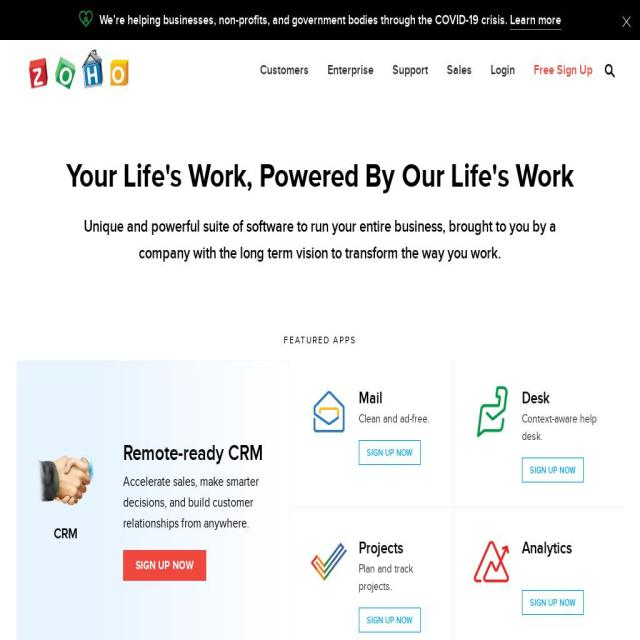button: (17, 389, 290, 631), (308, 535, 435, 633), (472, 385, 598, 483), (308, 385, 429, 465), (79, 10, 561, 29), (472, 535, 584, 615), (524, 50, 602, 88), (250, 50, 318, 88), (318, 50, 384, 88), (383, 50, 438, 88), (437, 50, 482, 88), (481, 50, 525, 88)
heading: (16, 156, 624, 196), (16, 332, 624, 348), (122, 439, 277, 467)
image: (28, 49, 129, 91), (308, 385, 349, 438), (308, 535, 349, 588), (472, 385, 512, 438), (472, 535, 512, 588), (603, 63, 619, 82)
label: (358, 560, 435, 595), (522, 410, 598, 445), (358, 410, 429, 428)
link: (122, 471, 277, 533), (358, 440, 421, 465), (522, 590, 584, 615), (358, 608, 421, 632), (522, 458, 584, 482)
text: (69, 212, 570, 266), (99, 10, 510, 29), (35, 439, 96, 523), (122, 550, 206, 581), (522, 535, 572, 559), (358, 535, 403, 559), (510, 10, 561, 30), (522, 385, 550, 409), (358, 385, 383, 409), (79, 10, 93, 28), (620, 13, 632, 30)
